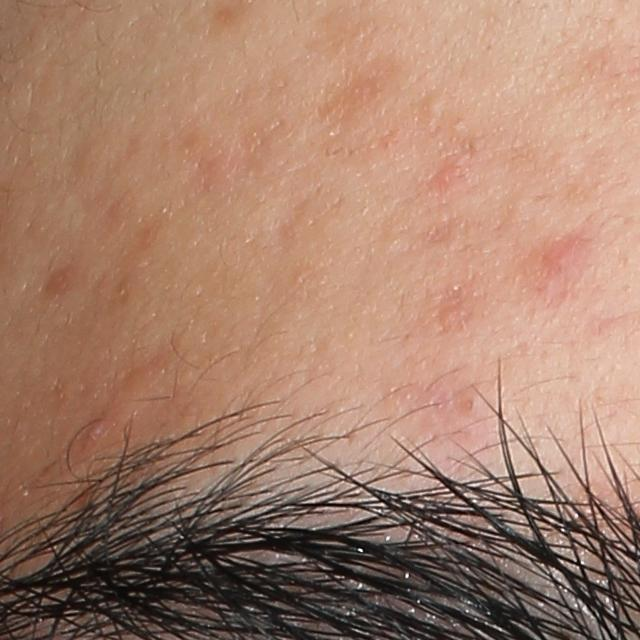comedo: (420, 92, 447, 121)
papule: (428, 164, 467, 191)
